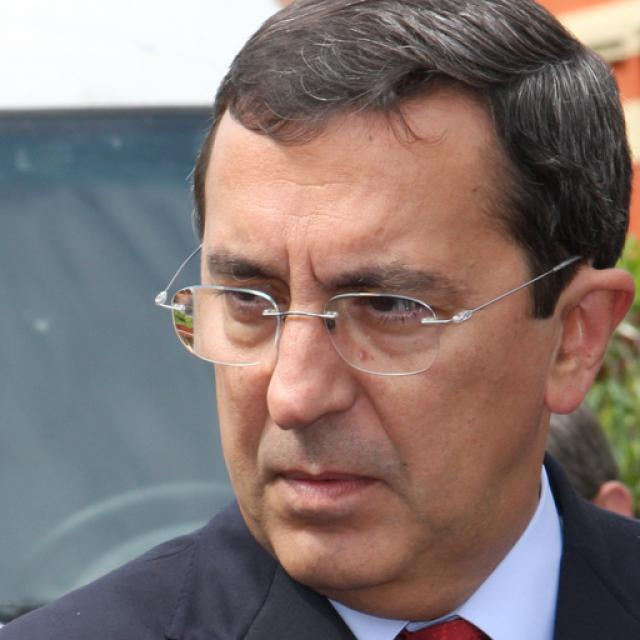Acne: (351, 341, 378, 364)
Wrinkle: (363, 384, 415, 481), (256, 201, 353, 224), (266, 177, 353, 191)
